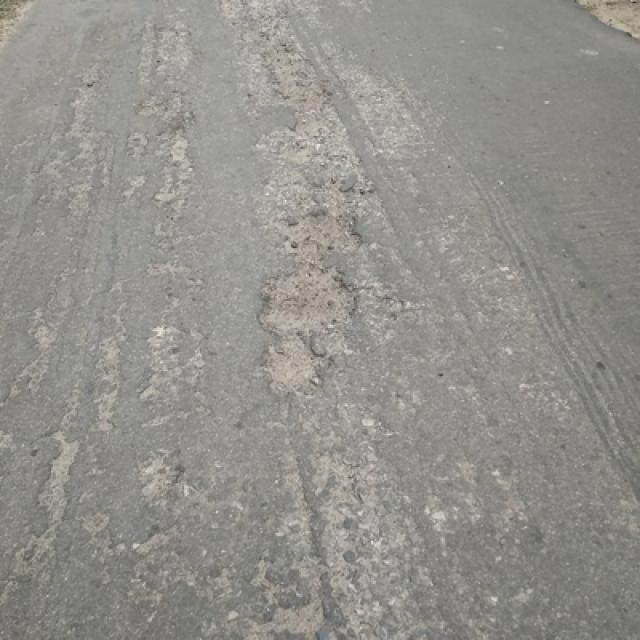jalan_berlubang: (264, 447, 380, 640), (263, 43, 333, 167), (261, 276, 371, 344), (83, 310, 144, 422), (261, 206, 369, 262), (262, 338, 337, 397), (33, 425, 81, 515), (11, 318, 61, 390), (147, 29, 196, 95), (136, 448, 190, 502), (116, 130, 166, 162), (64, 88, 93, 143), (133, 106, 183, 126)
